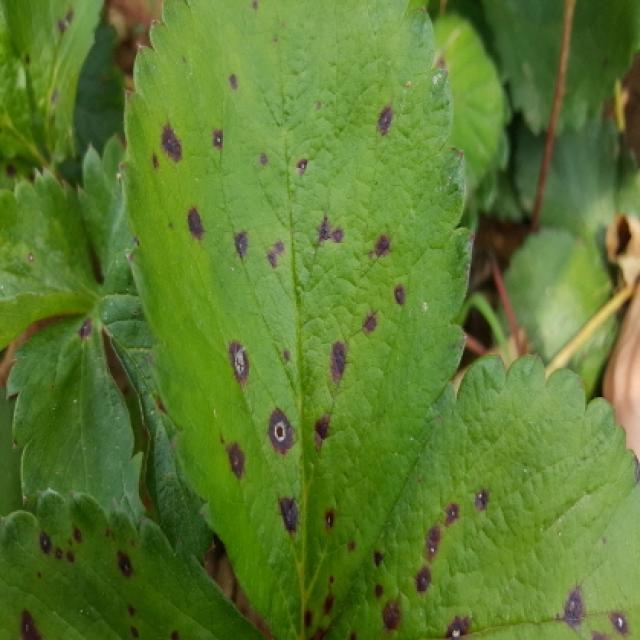Leaf Spot: (117, 0, 477, 638), (328, 353, 640, 638), (95, 296, 274, 637), (2, 486, 266, 638), (5, 311, 151, 531), (2, 168, 101, 351), (46, 0, 130, 188), (2, 0, 76, 167)
